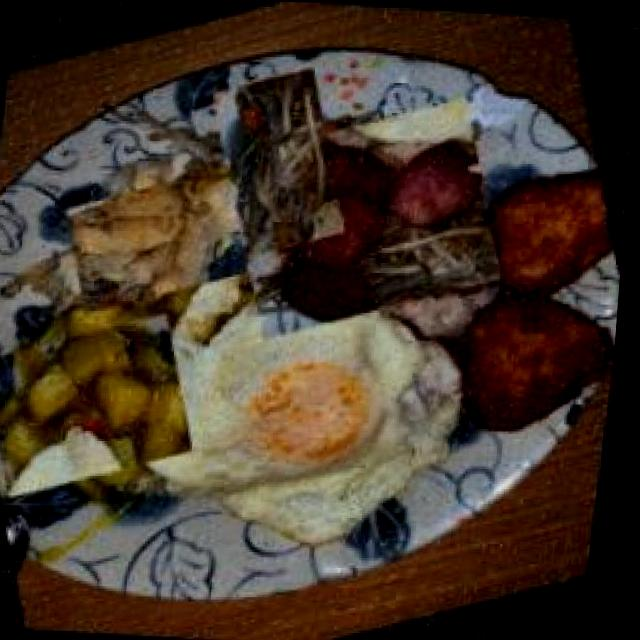chinese_cabbage: (54, 155, 264, 322)
chinese_sausage: (208, 81, 526, 351)
curry: (0, 297, 208, 516)
fried_eggs: (103, 239, 519, 596)
mung_bean_sprouts: (185, 71, 379, 255)
triangle_hash_brown: (415, 150, 631, 439)
